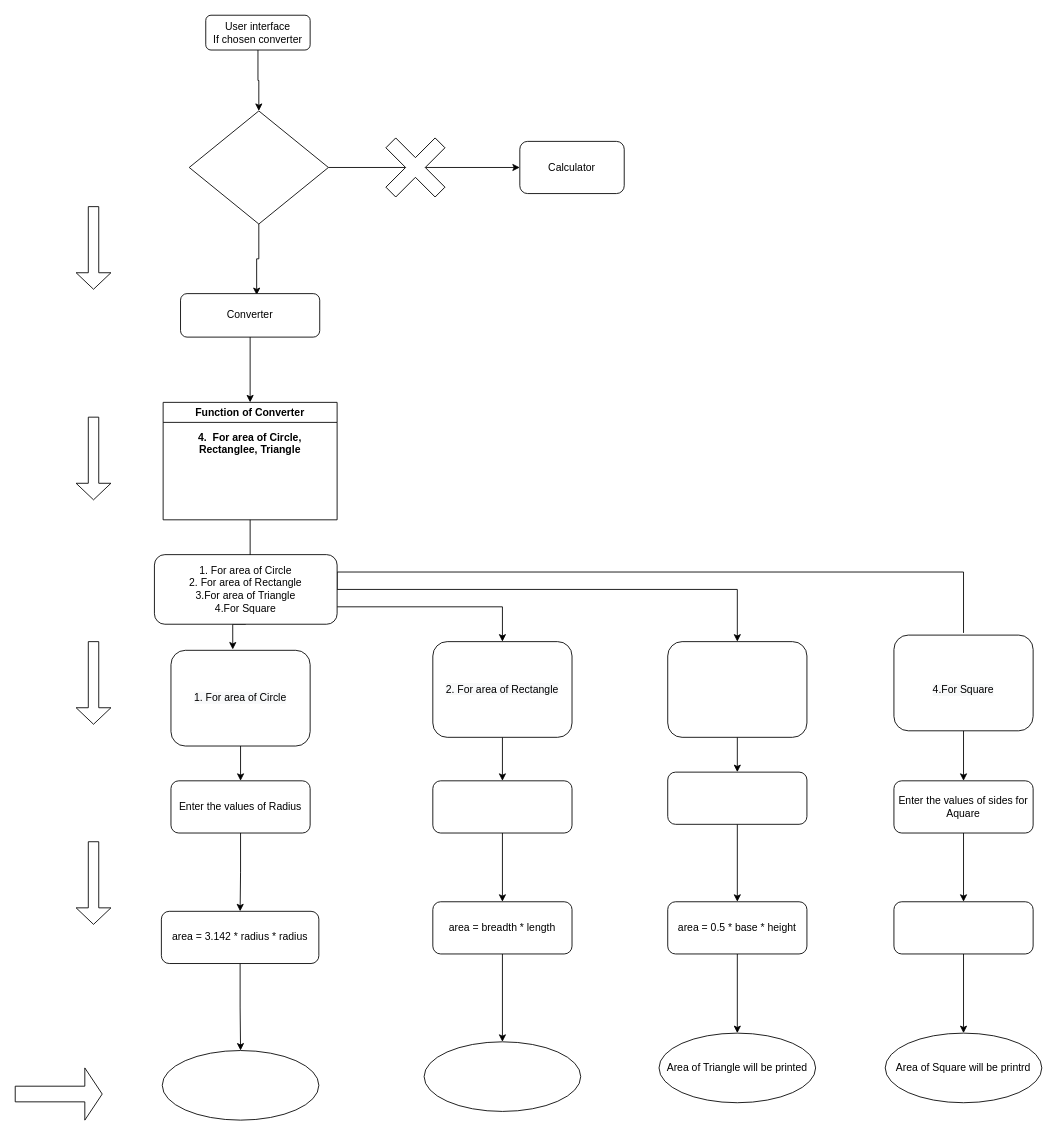
This 1057x1135 diagram has some shape labels left out. Each missing label, with the box of its shape:
3.For area of Triangle: (667, 641, 807, 737)
area = side * side: (893, 901, 1033, 954)
Area of circle will be printed: (161, 1050, 319, 1120)
Area of rectangle will be printed: (423, 1041, 581, 1111)
Calculator /Converter: (188, 110, 328, 224)
Enter the values of Base and height for triangle: (667, 771, 807, 824)
Enter the values of length and bredth: (432, 780, 572, 833)
